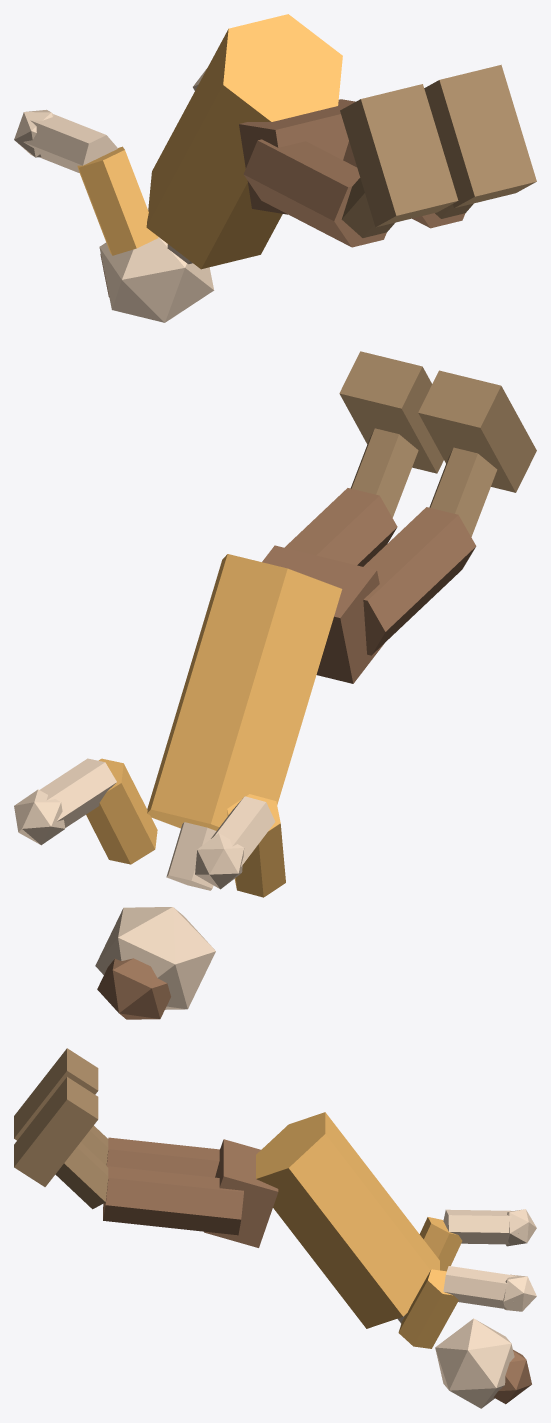
Rendered from pose_dodge_roll_28.glb.
The picture shows the model from 3 angles, top to bottom: view 1: azimuth 30°, elevation 25°; view 2: azimuth 150°, elevation 25°; view 3: azimuth 270°, elevation 25°; orthographic projection. The views are drawn at different scales.
Parts seen in each view (by area): view 1: pose; view 2: pose; view 3: pose.
Boxes of the visible parts, box(x1,y1,x2,y2) form: pose: box(14, 14, 536, 322); pose: box(14, 351, 536, 1019); pose: box(14, 1048, 536, 1408).
Bounding box in the file's own units: 0.5029 × 0.9501 × 1.37.
